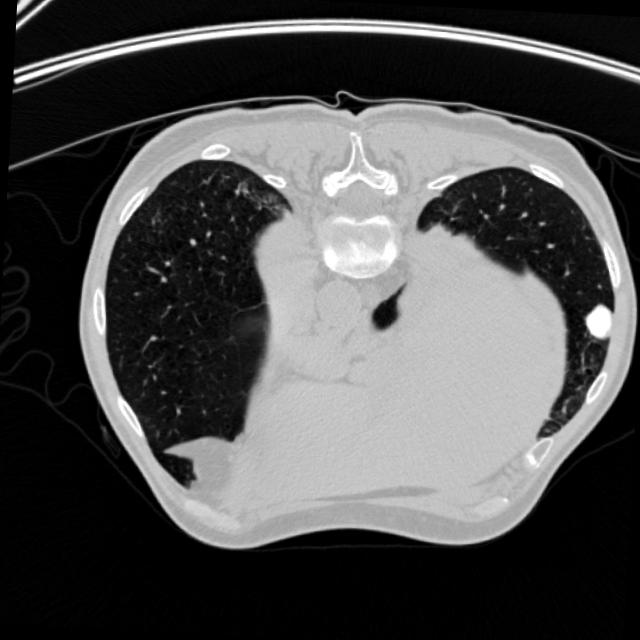nodule: (566, 286, 637, 358)
